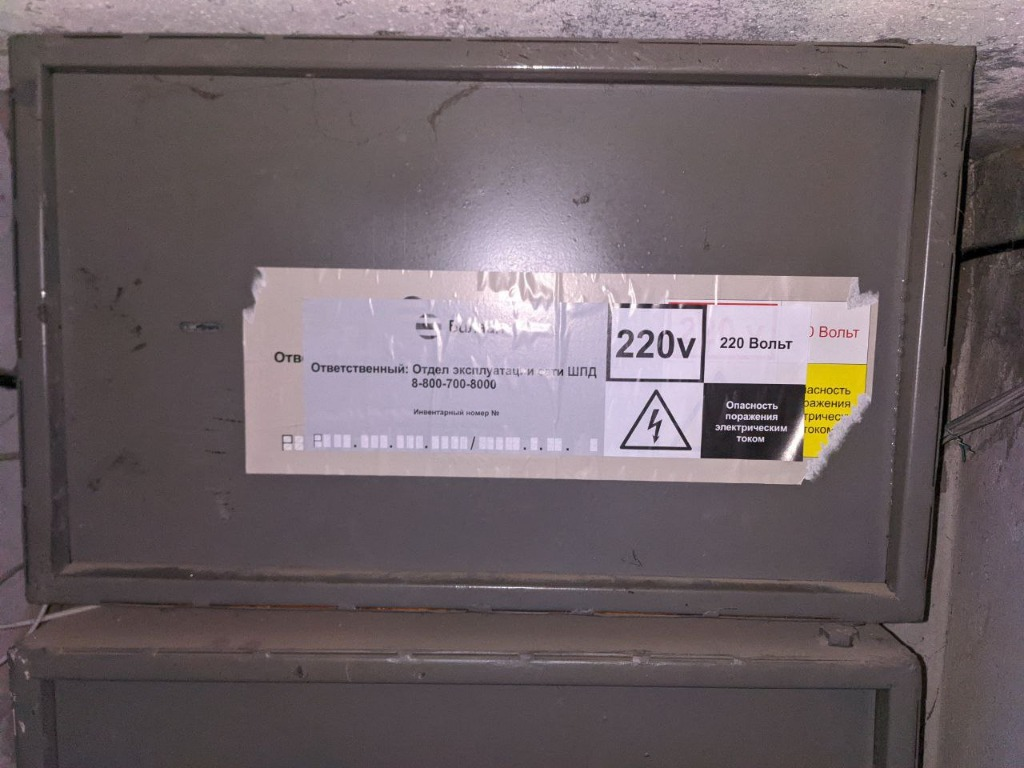e2-6u: (5, 30, 989, 633)
